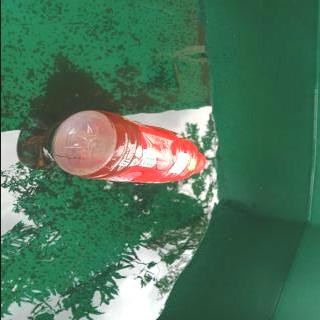bottle: (47, 109, 209, 184)
